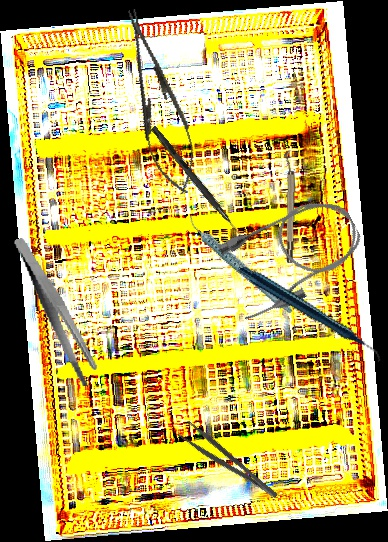Cannula: (210, 185, 374, 327)
Dressing Forceps: (13, 228, 101, 395), (176, 418, 280, 509)
Fixation Ring: (280, 149, 299, 264)
Handpiece: (237, 232, 382, 398), (186, 197, 295, 332)
Hook Surgical: (149, 125, 249, 243)
Needle Holder: (110, 3, 207, 200)
